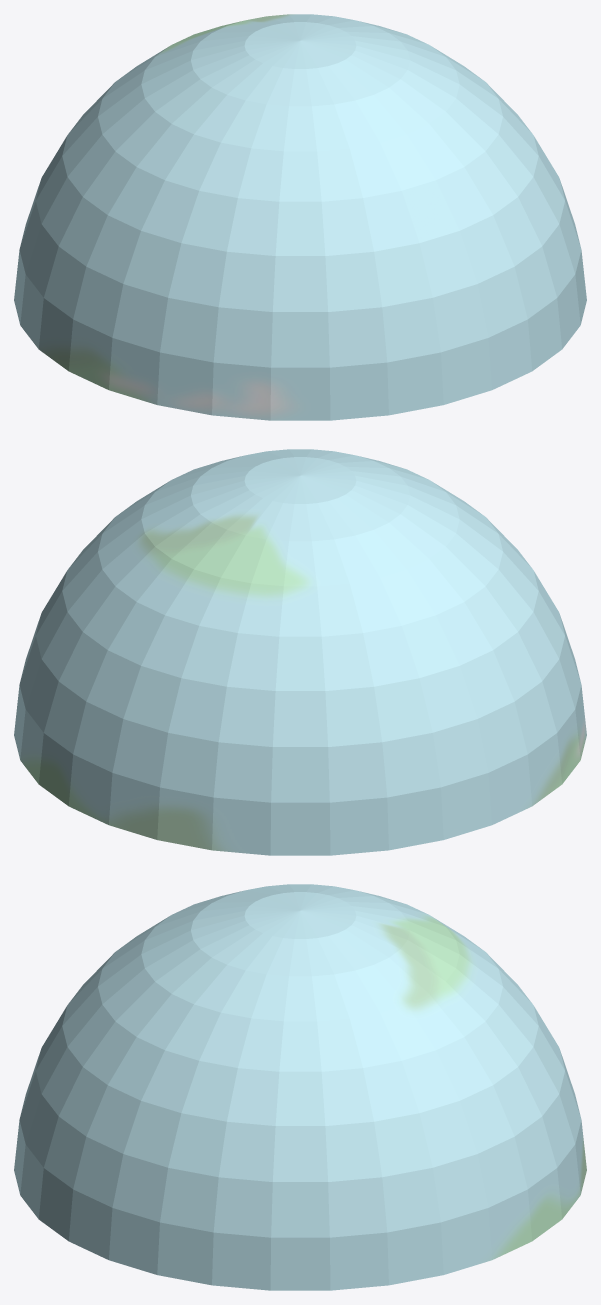
Rendered from Skydome.obj.
3 views of the same model, one above another, from view 1: azimuth 30°, elevation 25°; view 2: azimuth 150°, elevation 25°; view 3: azimuth 270°, elevation 25° (orthographic).
Visible parts, largest first — view 1: 球; view 2: 球; view 3: 球.
Part boxes in pixels (x1=…): 球: x1=14, y1=14, x2=586, y2=420; 球: x1=14, y1=449, x2=586, y2=855; 球: x1=14, y1=884, x2=586, y2=1290.
Bounding box in the file's own units: 1.99 × 1 × 2.
Materials: 1 (1 with a texture image).
